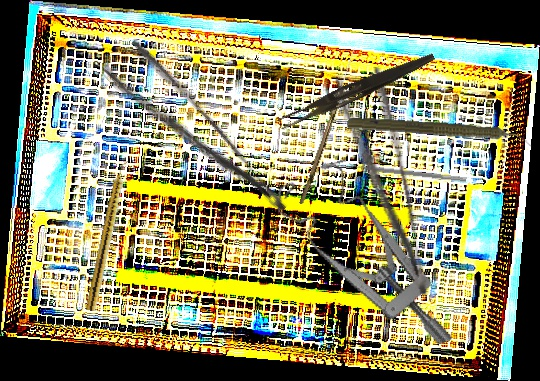Dressing Forceps: (99, 35, 291, 240), (333, 65, 433, 305), (276, 44, 437, 137)
Handpiece: (85, 158, 131, 313), (346, 113, 535, 149)
Spatula Surgical: (348, 159, 468, 183)
Speculum: (267, 142, 456, 381)
Surgical Spoon: (299, 46, 358, 206)
